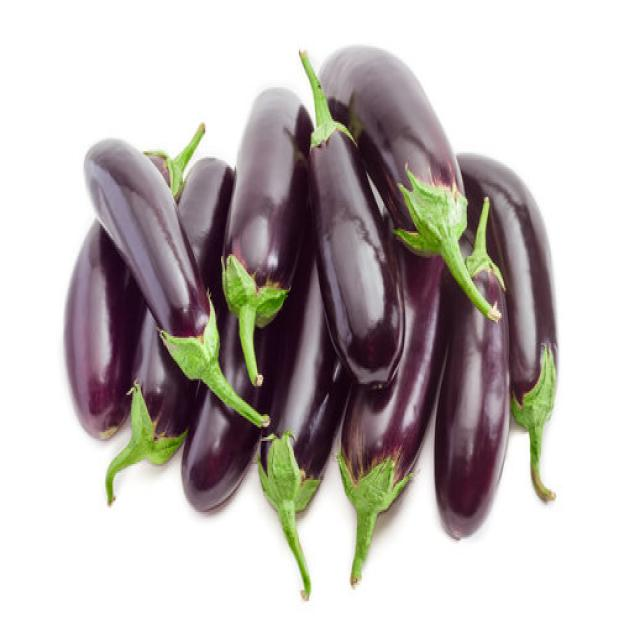Eggplant: (305, 42, 468, 586), (184, 80, 352, 510), (432, 149, 558, 539), (174, 153, 264, 512), (62, 215, 144, 441)
